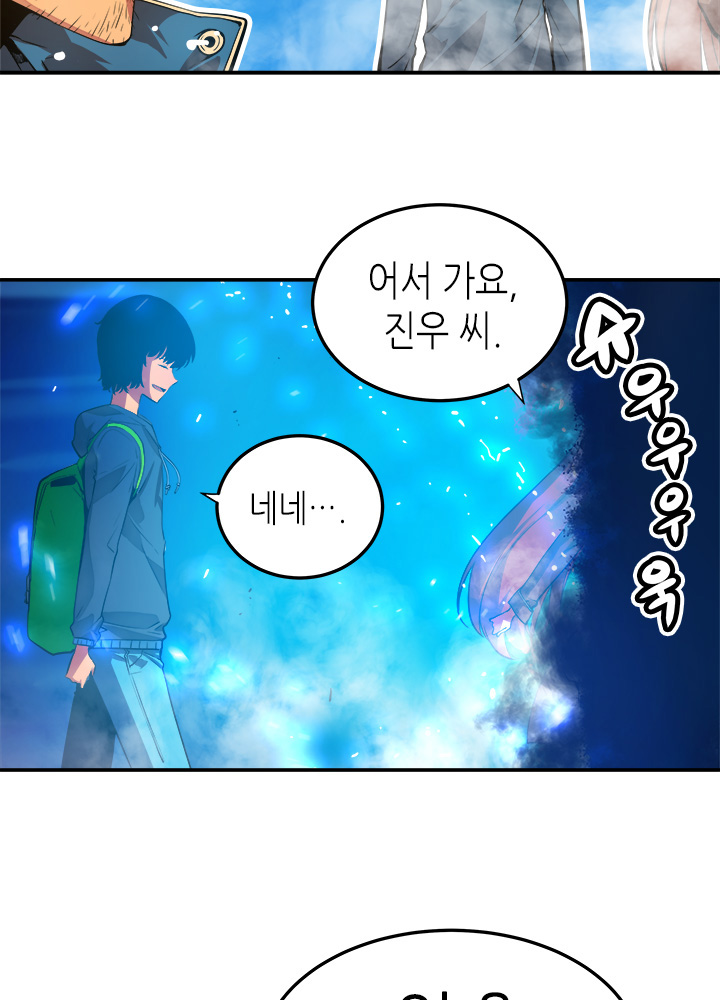dialog box: (283, 172, 595, 424), (249, 886, 659, 1000), (177, 409, 405, 599)
text: (347, 238, 539, 378), (231, 464, 360, 553)
